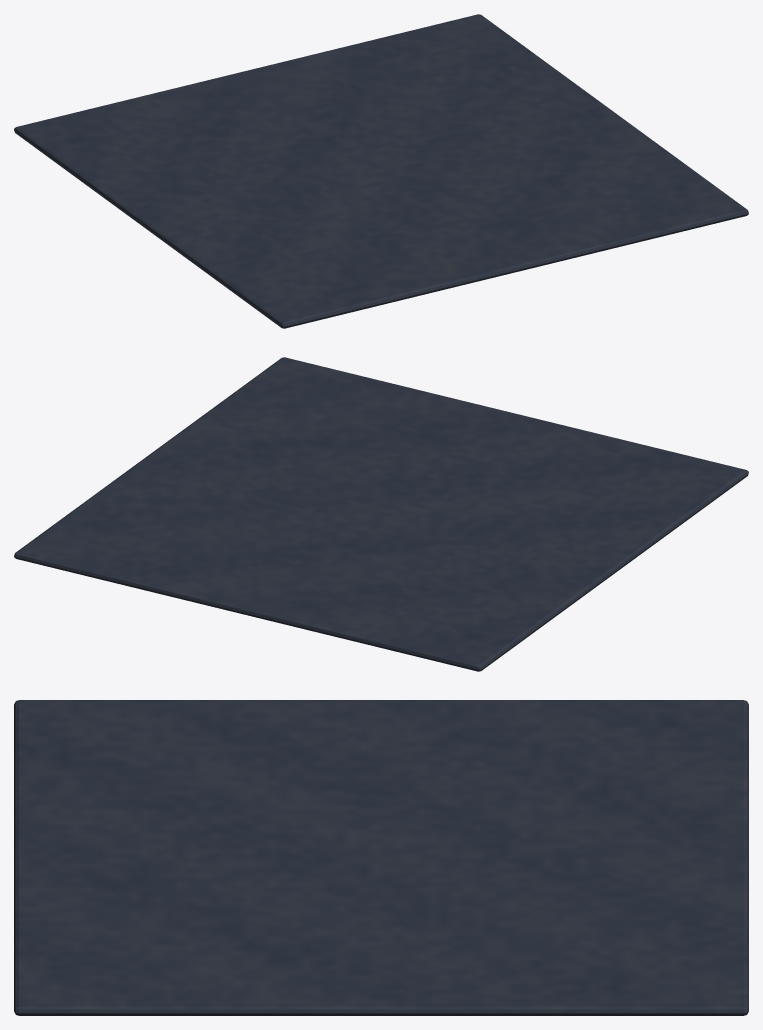
File: ESDFloorTile.obj
3 renders of one model, top to bottom at view 1: azimuth 30°, elevation 25°; view 2: azimuth 150°, elevation 25°; view 3: azimuth 270°, elevation 25°, orthographic. The views are drawn at different scales.
Parts seen in each view (by area): view 1: Tile; view 2: Tile; view 3: Tile.
Part boxes in pixels (x1,y1,x2,y2): Tile: (14, 14, 748, 328); Tile: (14, 357, 748, 671); Tile: (14, 700, 748, 1015).
Bounding box in the file's own units: 0.6 × 0.008 × 0.6.
